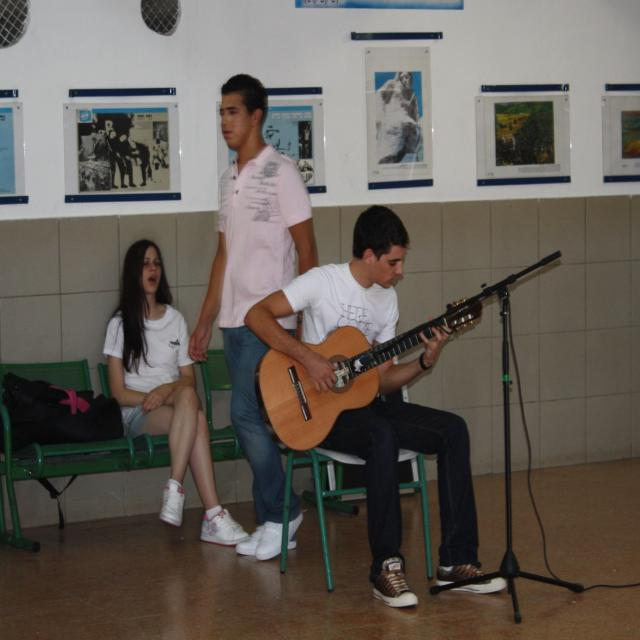guitar: (254, 295, 485, 456)
